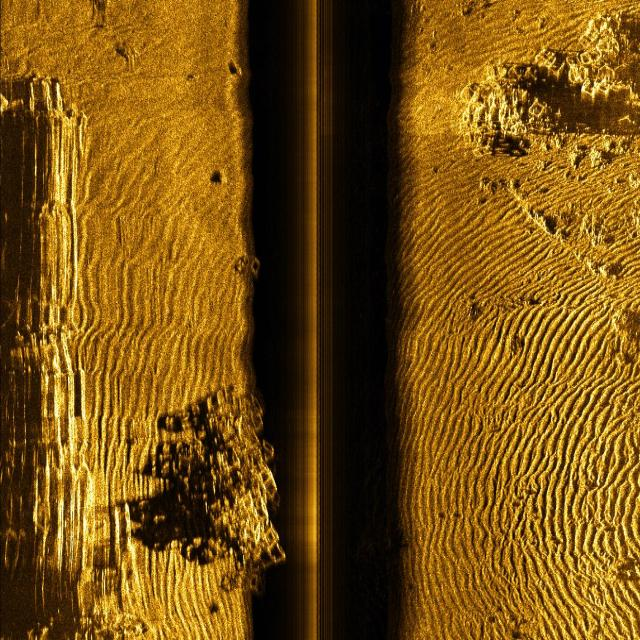artificial reef: (160, 394, 291, 590), (468, 22, 632, 155), (247, 236, 276, 284)
